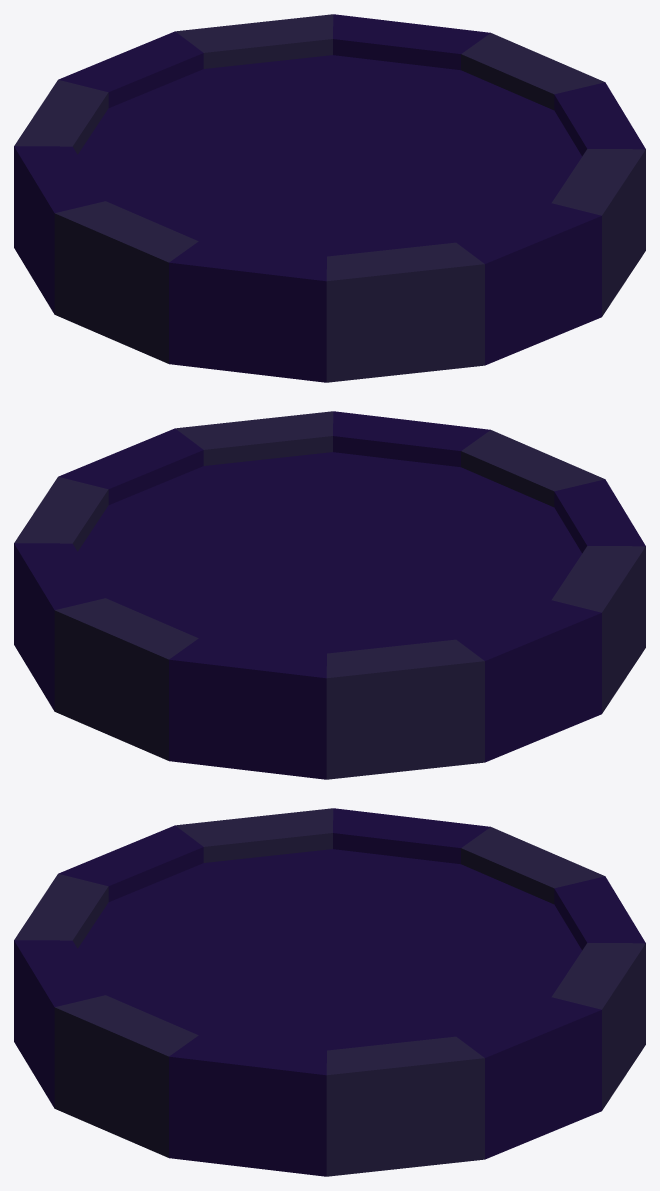
3 renders of one model, top to bottom at view 1: azimuth 30°, elevation 25°; view 2: azimuth 150°, elevation 25°; view 3: azimuth 270°, elevation 25°, orthographic.
Visible parts, largest first — view 1: Cylinder.001; view 2: Cylinder.001; view 3: Cylinder.001.
Boxes of the visible parts, x1,y1,x2,y2 form: Cylinder.001: (14, 14, 645, 382); Cylinder.001: (14, 411, 645, 779); Cylinder.001: (14, 808, 645, 1176).
Bounding box in the file's own units: 150 × 26.64 × 150.
